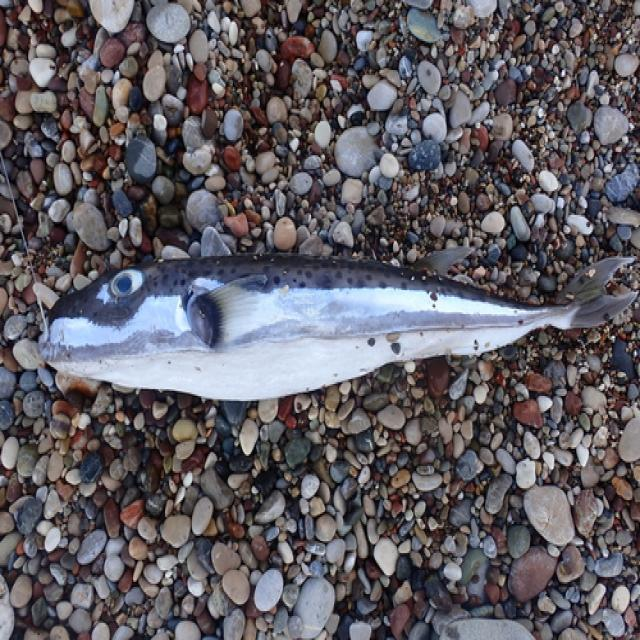Balik: (40, 255, 636, 399)
